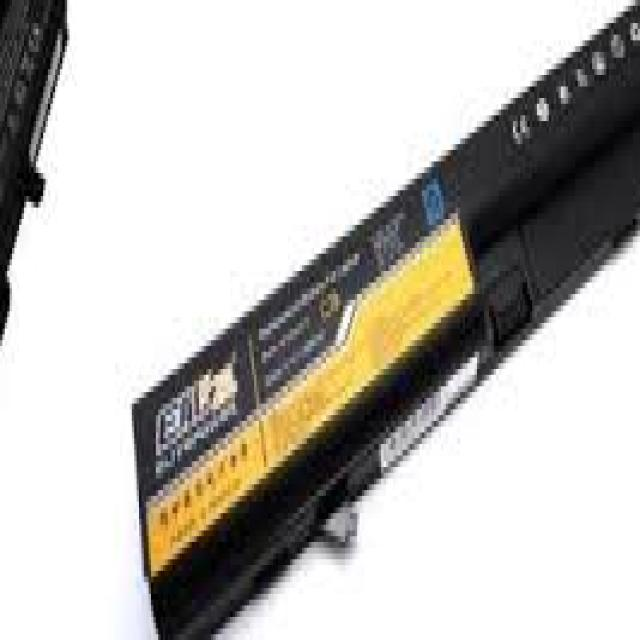organic: (129, 3, 639, 628)
